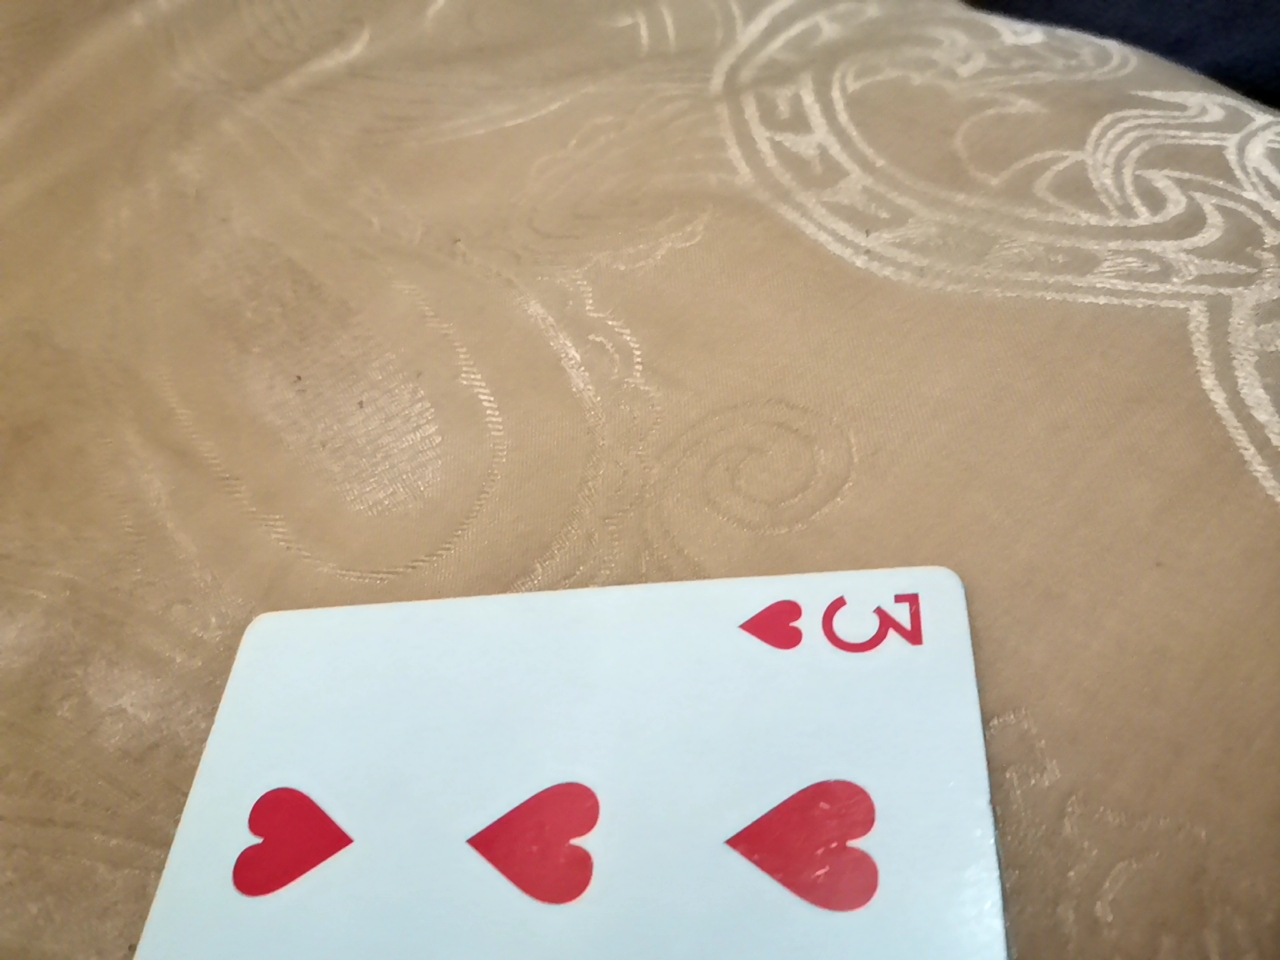hx 3: (80, 554, 1019, 956)
